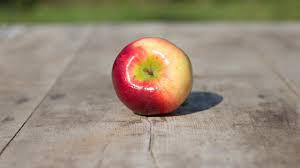apple: (114, 36, 193, 114)
